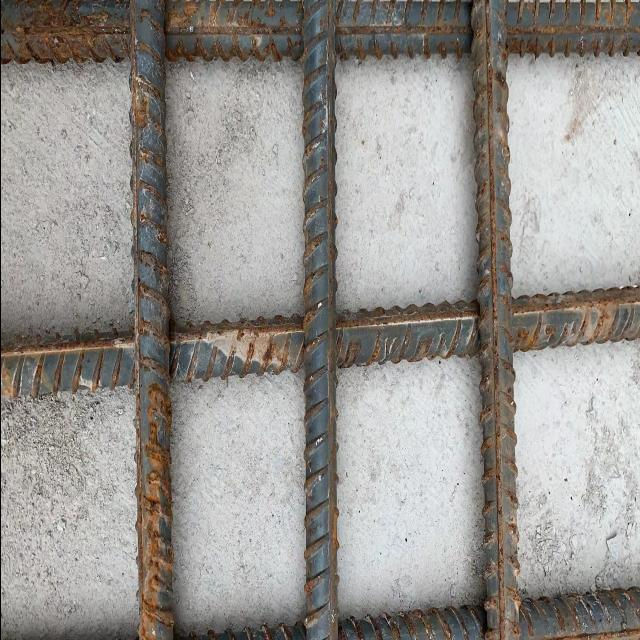ribbed bar: (1, 281, 640, 408), (1, 1, 639, 65), (468, 1, 521, 640), (127, 1, 174, 640), (177, 584, 639, 640), (302, 1, 340, 640)
